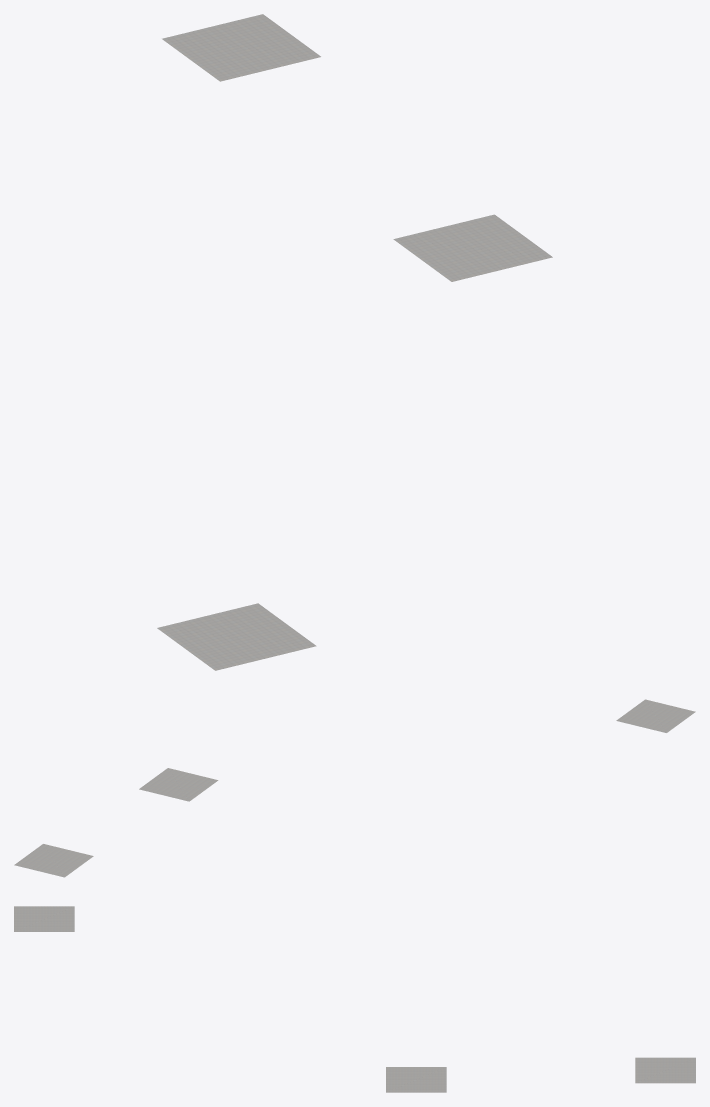
File: kd_stage_136282_2_0_bounded.glb
3 views of the same model, one above another, from view 1: azimuth 30°, elevation 25°; view 2: azimuth 150°, elevation 25°; view 3: azimuth 270°, elevation 25° (orthographic). The views are drawn at different scales.
Parts seen in each view (by area): view 1: kd_stage_136282_2_0_bounded; view 2: kd_stage_136282_2_0_bounded; view 3: kd_stage_136282_2_0_bounded.
Boxes of the visible parts, x1,y1,x2,y2 form: kd_stage_136282_2_0_bounded: [157, 14, 552, 670]; kd_stage_136282_2_0_bounded: [14, 699, 695, 877]; kd_stage_136282_2_0_bounded: [14, 906, 695, 1092].
Size of the model in its own units: 34.8 by 1.04 by 56.2.
Materials: 1 (1 with a texture image).
